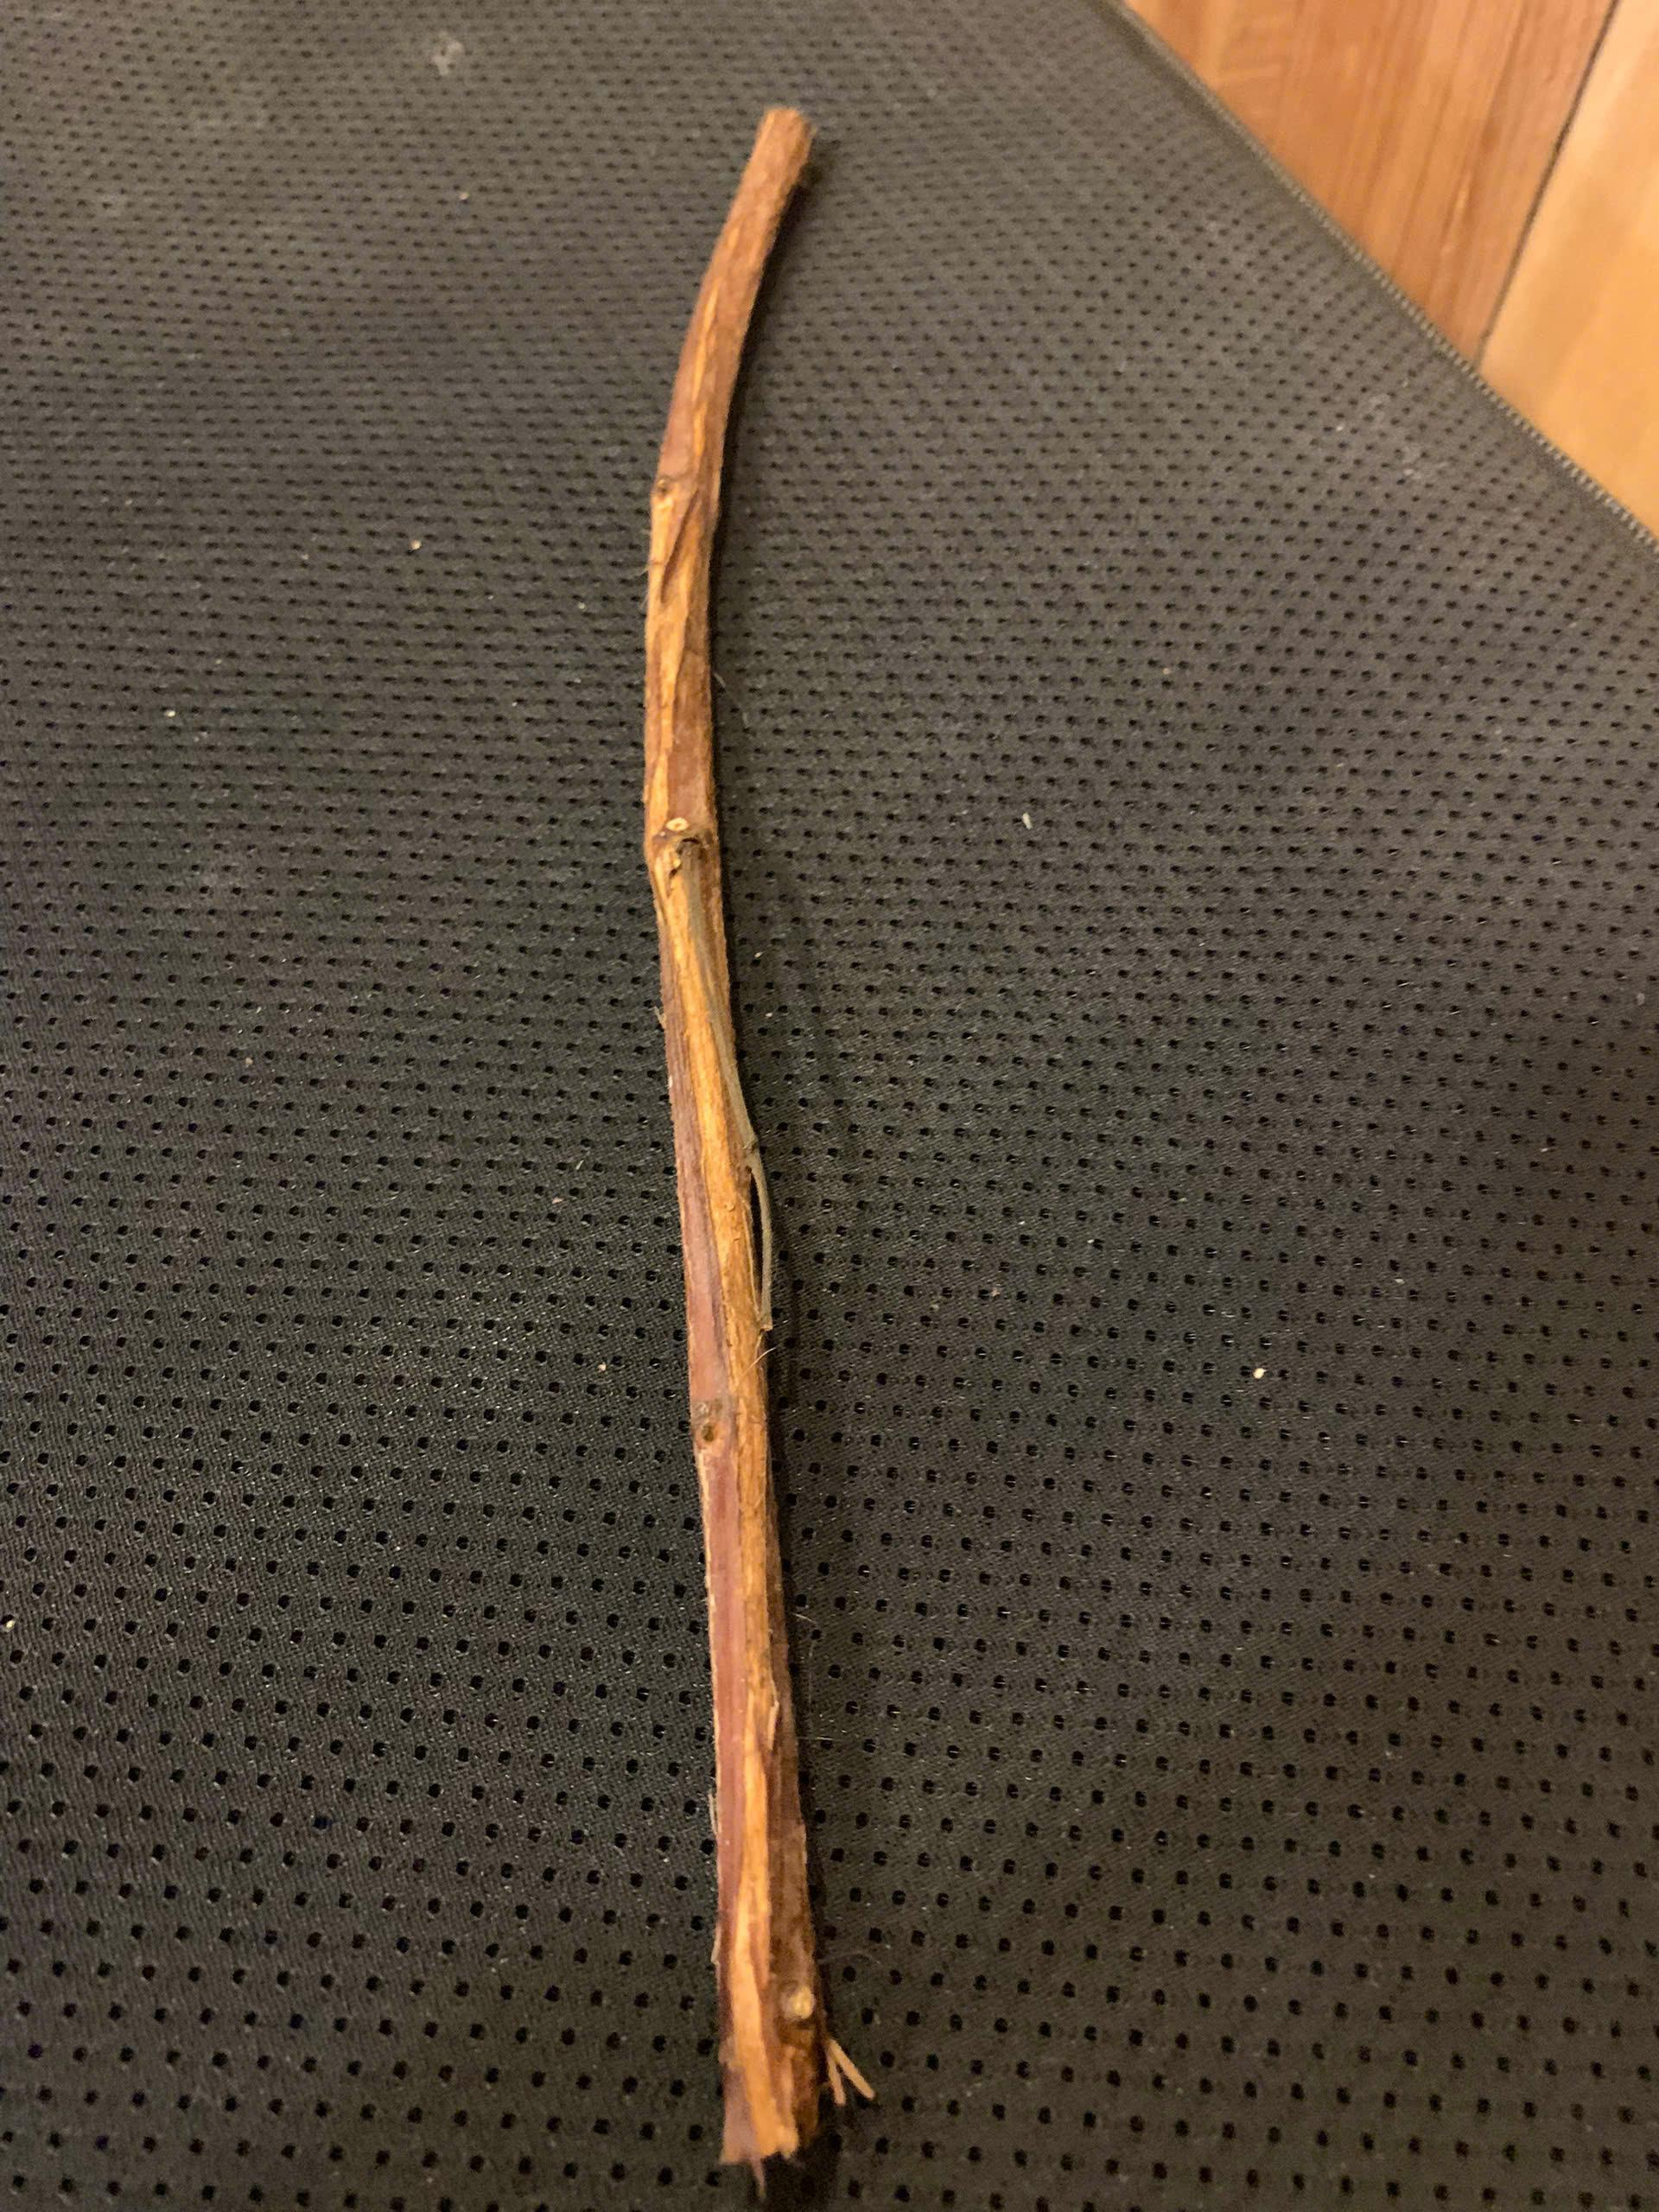Huu co: (643, 105, 816, 2182)
